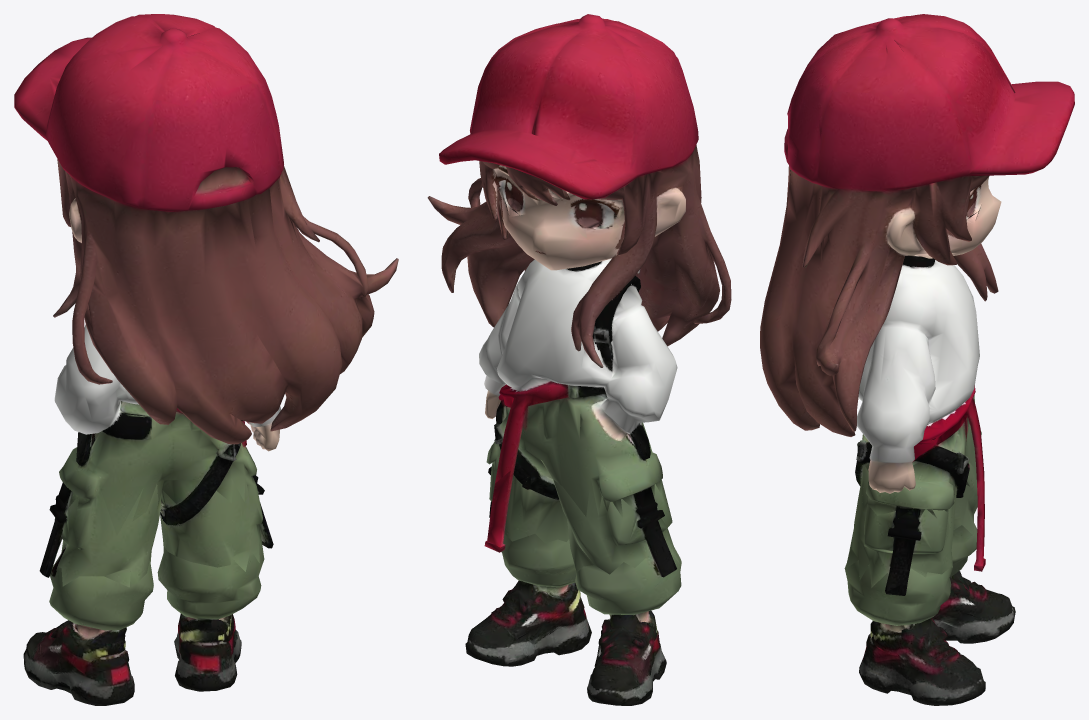
Rendered from chibi-girl.glb.
3 views of the same model, side by side, from view 1: azimuth 30°, elevation 25°; view 2: azimuth 150°, elevation 25°; view 3: azimuth 270°, elevation 25° (orthographic). The views are drawn at different scales.
Visible parts, largest first — view 1: upper, shinR, shinL, thighR, thighL; view 2: upper, shinL, shinR, thighR, thighL; view 3: upper, shinL, thighL, shinR, thighR.
Part boxes in pixels (box(x1,y1,x2,y2)): upper: box(14, 14, 398, 535); shinR: box(23, 551, 153, 705); shinL: box(157, 535, 273, 691); thighR: box(39, 484, 167, 587); thighL: box(160, 475, 272, 571); upper: box(427, 14, 731, 518); shinL: box(465, 515, 591, 666); shinR: box(575, 547, 681, 705); thighR: box(553, 479, 679, 576); thighL: box(486, 462, 569, 547); upper: box(760, 14, 1074, 529); shinL: box(844, 549, 985, 705); thighL: box(845, 477, 985, 591); shinR: box(932, 523, 1015, 643); thighR: box(953, 462, 977, 535).
Size of the model in its own units: 0.5579 by 1.1 by 0.4859.
Materials: 1 (1 with a texture image).
